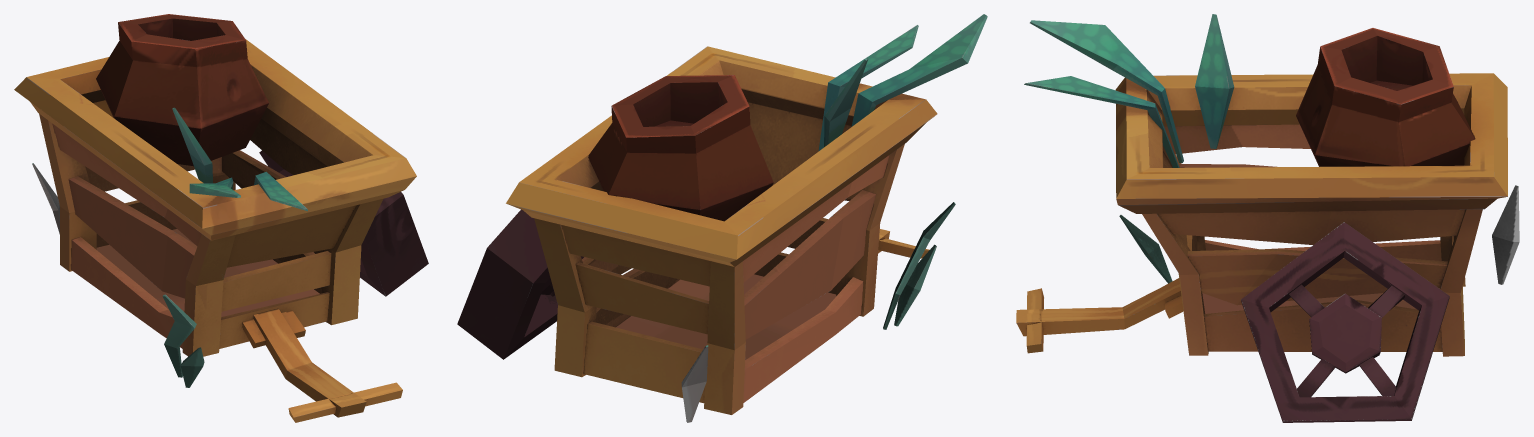
File: Cart.fbx
The picture shows the model from 3 angles, left to right: view 1: azimuth 30°, elevation 25°; view 2: azimuth 150°, elevation 25°; view 3: azimuth 270°, elevation 25°; orthographic projection. The views are drawn at different scales.
Parts seen in each view (by area): view 1: Cart; view 2: Cart; view 3: Cart.
Part boxes in pixels (x1,y1,x2,y2): Cart: (14,14,428,422); Cart: (457,14,987,422); Cart: (1016,14,1519,422).
Bounding box in the file's own units: 2.9 × 2.29 × 3.61.
